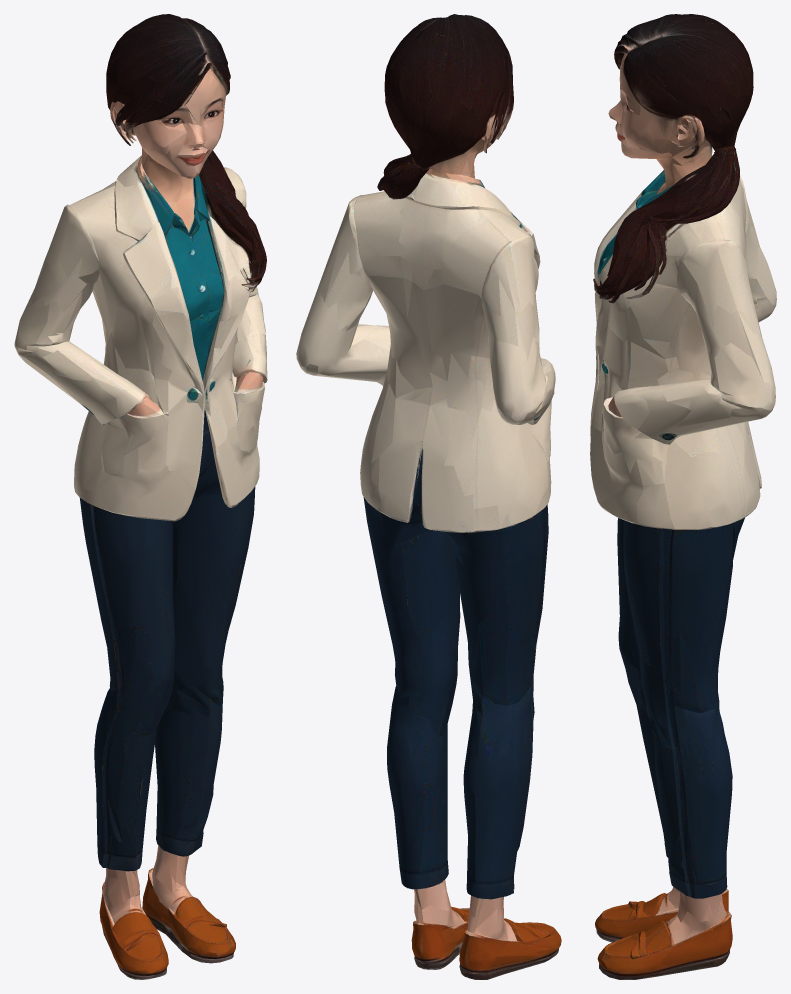
The model's file is nagi.glb.
3 views of the same model, side by side, from view 1: azimuth 30°, elevation 25°; view 2: azimuth 150°, elevation 25°; view 3: azimuth 270°, elevation 25° (orthographic). The views are drawn at different scales.
Bounding box in the file's own units: 0.5083 × 1.9 × 0.34.
Materials: 1 (1 with a texture image).
